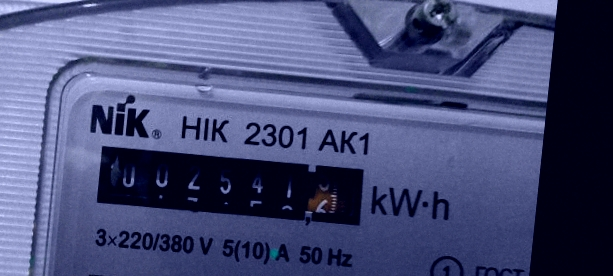0: (150, 155, 172, 190), (119, 158, 139, 189)
1: (278, 166, 297, 200)
2: (181, 158, 205, 194)
4: (247, 163, 267, 196)
5: (215, 163, 234, 197)
6: (311, 193, 329, 216)
screen: (79, 126, 387, 246)
